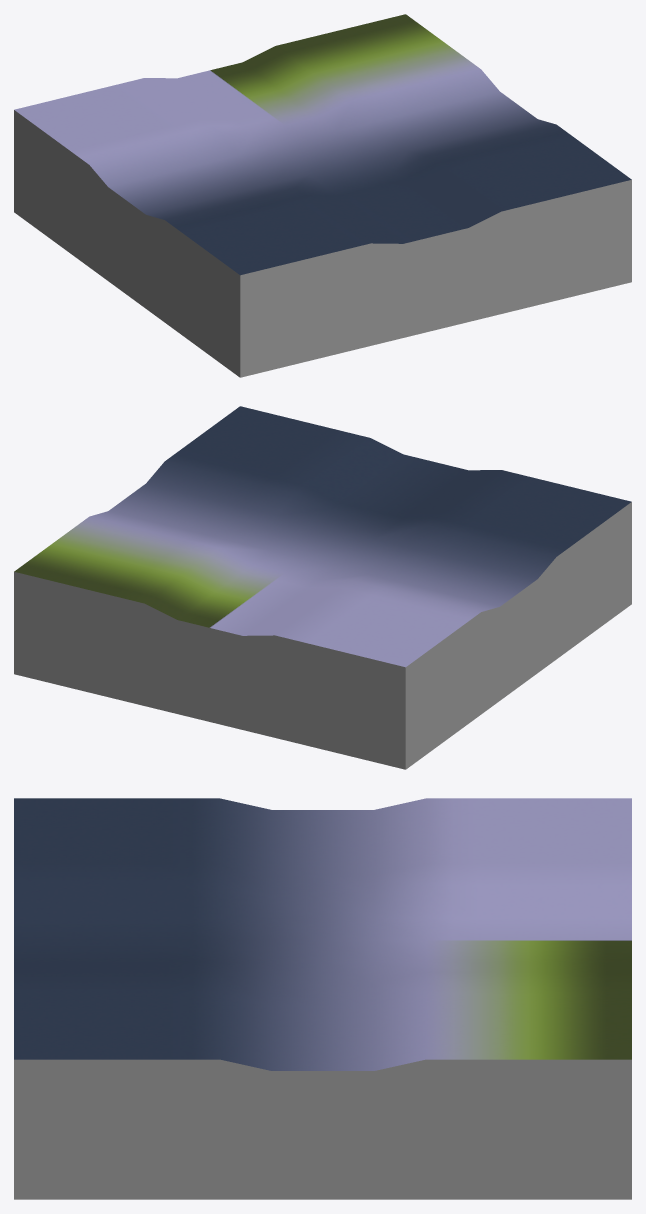
The model's file is PathFlatCross.fbx.
3 views of the same model, one above another, from view 1: azimuth 30°, elevation 25°; view 2: azimuth 150°, elevation 25°; view 3: azimuth 270°, elevation 25° (orthographic). The views are drawn at different scales.
Visible parts, largest first — view 1: PathFlatCross; view 2: PathFlatCross; view 3: PathFlatCross.
Boxes of the visible parts, x1,y1,x2,y2 form: PathFlatCross: [14, 14, 631, 377]; PathFlatCross: [14, 406, 631, 769]; PathFlatCross: [14, 798, 631, 1199].
Size of the model in its own units: 1200 by 300 by 1200.
